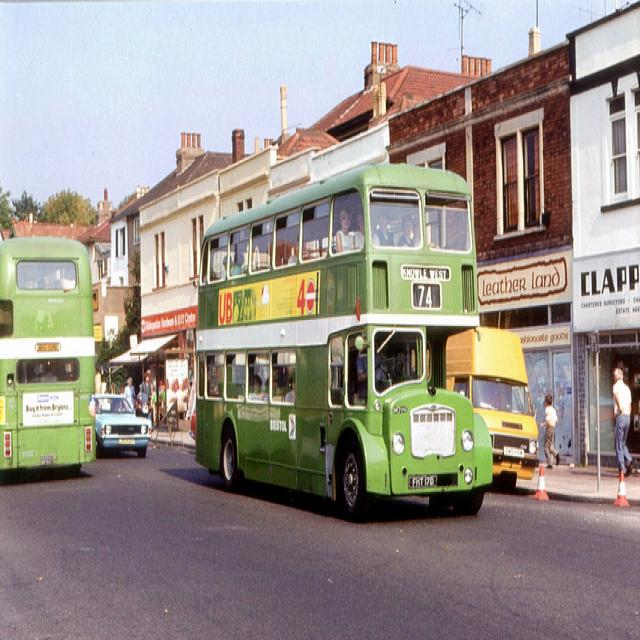Vehicle: (195, 164, 490, 516), (1, 237, 97, 473), (94, 393, 153, 458)
